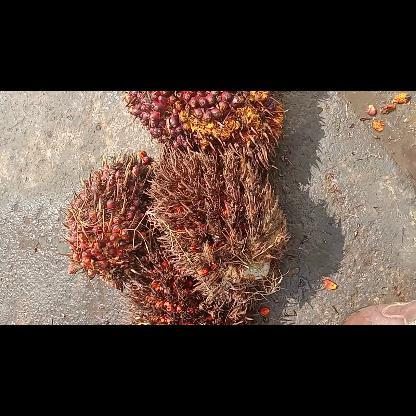TBS masak: (60, 149, 162, 289), (121, 91, 283, 169)
Terlalu masak: (144, 143, 290, 320), (122, 250, 219, 324)
